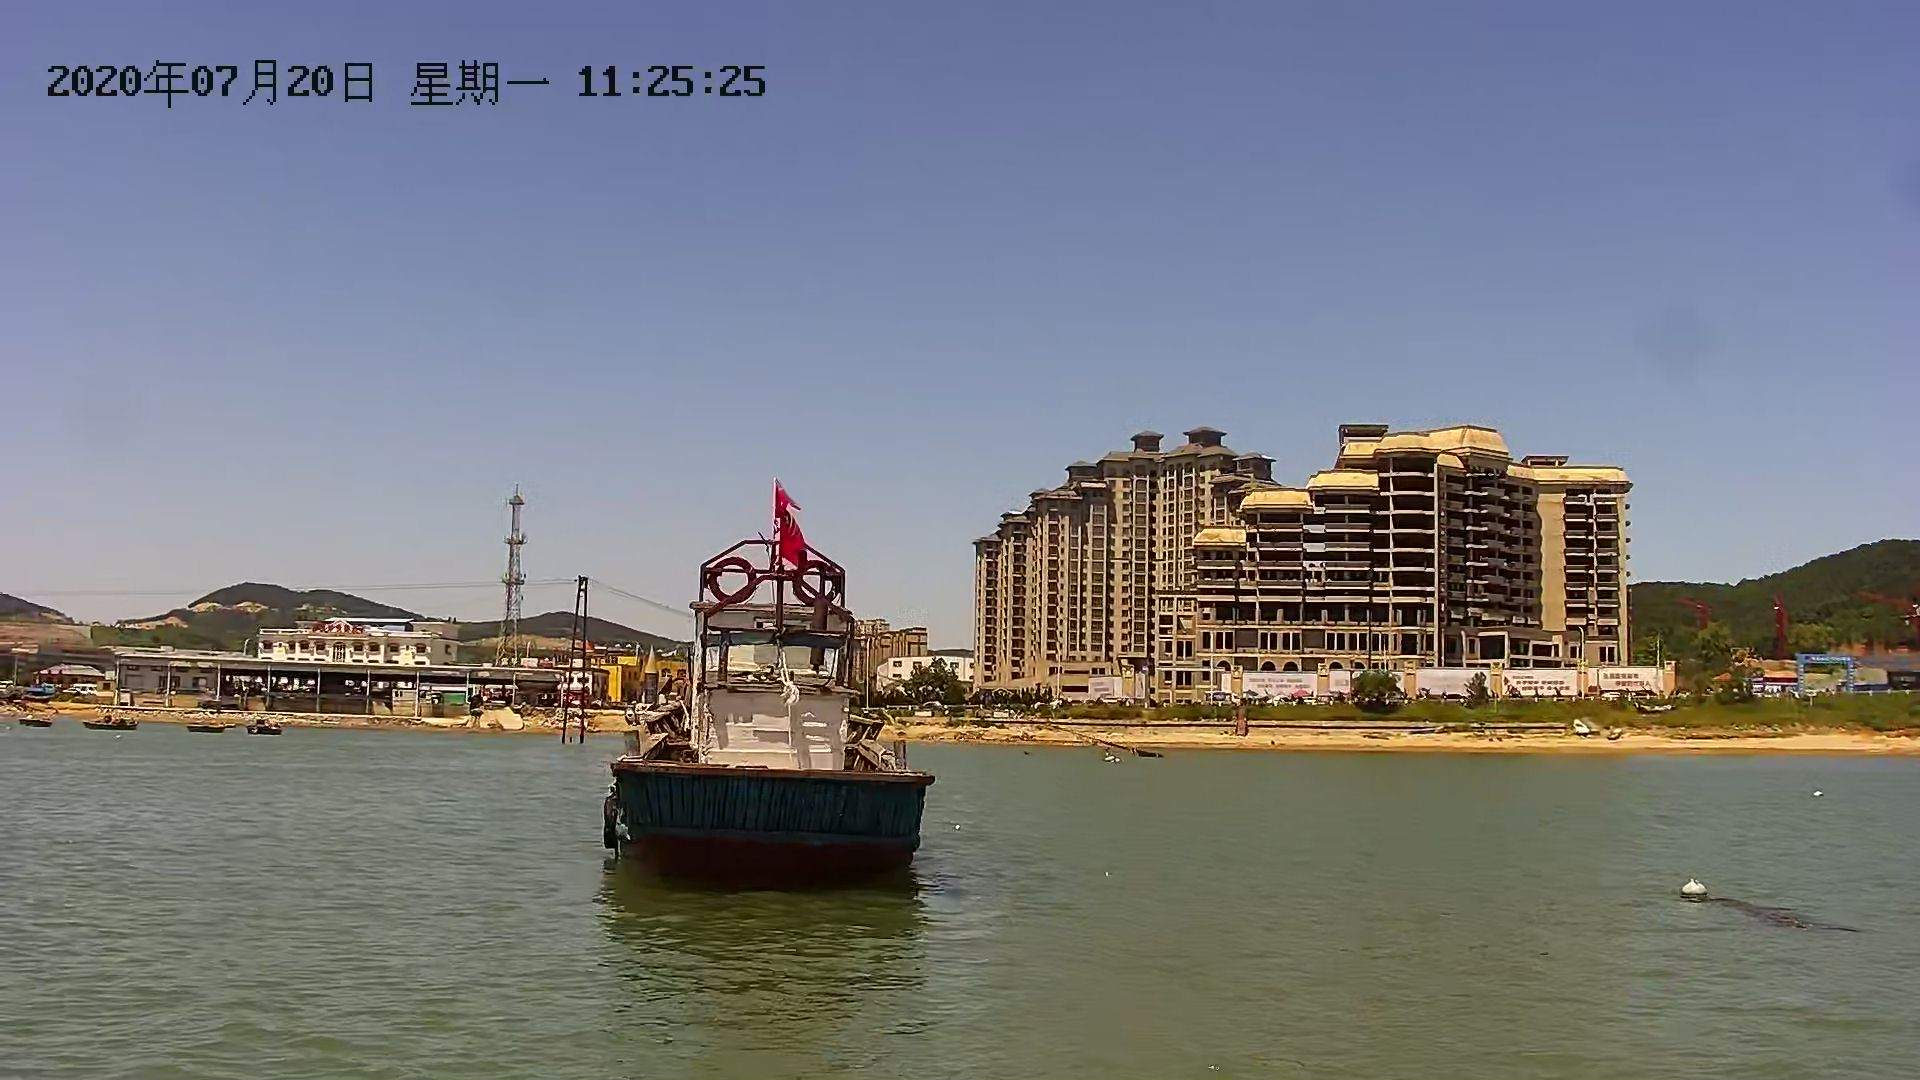ball: (1677, 878, 1714, 898)
boat: (605, 530, 935, 884)
